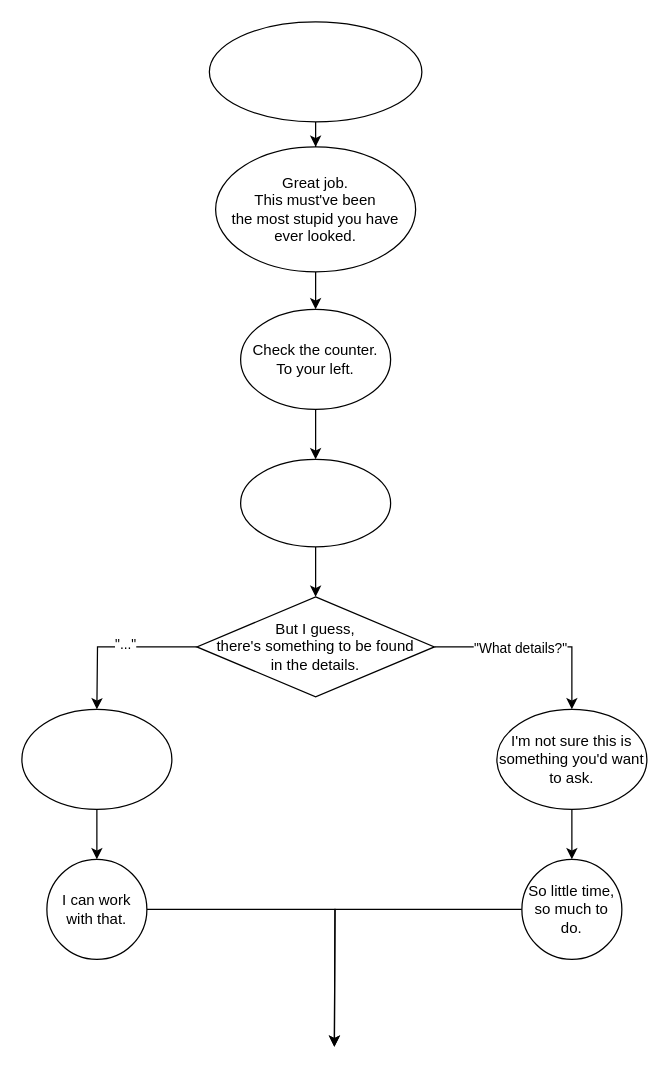
This 669x1079 diagram has some shape labels left out. The shapes that lost their labels are listed below. From the top down, each one's centre as x and y in pixels, then its label:
At (x=315, y=71): "You are alone. For what seems to be the first time in ages.".
At (x=315, y=502): "I know there's nothing there.".
At (x=96, y=758): "You're not going to say anything, right?".
